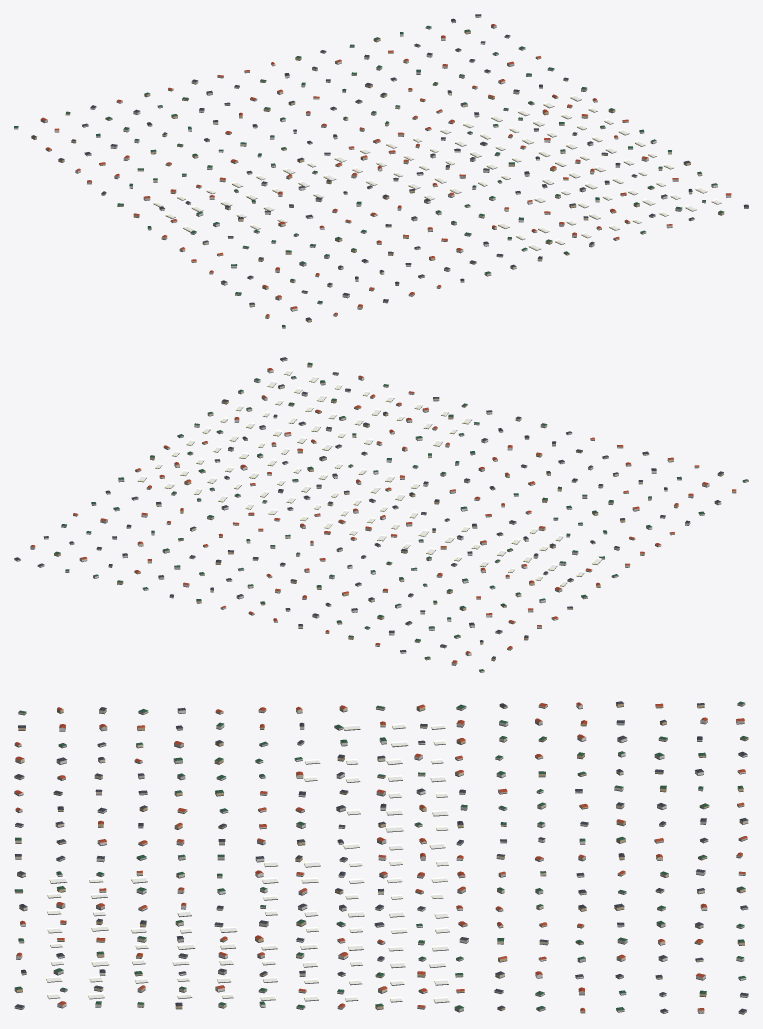
File: buildings_T_W03_S03.glb
3 views of the same model, one above another, from view 1: azimuth 30°, elevation 25°; view 2: azimuth 150°, elevation 25°; view 3: azimuth 270°, elevation 25° (orthographic). The views are drawn at different scales.
Parts seen in each view (by area): view 1: T_W03_S03_slope_seating_foundations, T_W03_S03_roofs_agri_greenhouse_arch, T_W03_S03_roofs_roof_slate_French_villa_hip, T_W03_S03_roofs_roof_terracotta_gable, T_W03_S03_roofs_roof_pine_green_hip, T_W03_S03_walls_wall_modern_warm_white, T_W03_S03_walls_wall_pastel_sand_gray, T_W03_S03_walls_wall_dalat_cream_stucco, T_W03_S03_walls_wall_french_ochre_villa; view 2: T_W03_S03_slope_seating_foundations, T_W03_S03_roofs_agri_greenhouse_arch, T_W03_S03_roofs_roof_slate_French_villa_hip, T_W03_S03_roofs_roof_terracotta_gable, T_W03_S03_roofs_roof_pine_green_hip, T_W03_S03_walls_wall_modern_warm_white, T_W03_S03_walls_wall_dalat_cream_stucco, T_W03_S03_walls_wall_pastel_sand_gray, T_W03_S03_walls_wall_french_ochre_villa; view 3: T_W03_S03_slope_seating_foundations, T_W03_S03_roofs_agri_greenhouse_arch, T_W03_S03_roofs_roof_slate_French_villa_hip, T_W03_S03_roofs_roof_terracotta_gable, T_W03_S03_roofs_roof_pine_green_hip, T_W03_S03_walls_wall_modern_warm_white, T_W03_S03_walls_wall_dalat_cream_stucco, T_W03_S03_walls_wall_pastel_sand_gray, T_W03_S03_walls_wall_french_ochre_villa.
Boxes of the visible parts, x1=… form: T_W03_S03_slope_seating_foundations: x1=14, y1=17, x2=748, y2=328; T_W03_S03_roofs_agri_greenhouse_arch: x1=153, y1=95, x2=721, y2=250; T_W03_S03_roofs_roof_slate_French_villa_hip: x1=31, y1=14, x2=748, y2=320; T_W03_S03_roofs_roof_terracotta_gable: x1=41, y1=24, x2=731, y2=316; T_W03_S03_roofs_roof_pine_green_hip: x1=14, y1=25, x2=724, y2=327; T_W03_S03_walls_wall_modern_warm_white: x1=54, y1=20, x2=731, y2=310; T_W03_S03_walls_wall_pastel_sand_gray: x1=40, y1=25, x2=705, y2=303; T_W03_S03_walls_wall_dalat_cream_stucco: x1=14, y1=16, x2=748, y2=328; T_W03_S03_walls_wall_french_ochre_villa: x1=31, y1=31, x2=724, y2=321; T_W03_S03_slope_seating_foundations: x1=14, y1=359, x2=748, y2=672; T_W03_S03_roofs_agri_greenhouse_arch: x1=137, y1=369, x2=601, y2=585; T_W03_S03_roofs_roof_slate_French_villa_hip: x1=14, y1=357, x2=723, y2=658; T_W03_S03_roofs_roof_terracotta_gable: x1=30, y1=368, x2=736, y2=663; T_W03_S03_roofs_roof_pine_green_hip: x1=54, y1=362, x2=748, y2=671; T_W03_S03_walls_wall_modern_warm_white: x1=37, y1=369, x2=709, y2=655; T_W03_S03_walls_wall_dalat_cream_stucco: x1=14, y1=359, x2=748, y2=672; T_W03_S03_walls_wall_pastel_sand_gray: x1=30, y1=377, x2=693, y2=665; T_W03_S03_walls_wall_french_ochre_villa: x1=54, y1=363, x2=736, y2=660; T_W03_S03_slope_seating_foundations: x1=14, y1=704, x2=748, y2=1014; T_W03_S03_roofs_agri_greenhouse_arch: x1=46, y1=723, x2=449, y2=1002; T_W03_S03_roofs_roof_slate_French_villa_hip: x1=14, y1=701, x2=748, y2=1012; T_W03_S03_roofs_roof_terracotta_gable: x1=14, y1=702, x2=747, y2=1011; T_W03_S03_roofs_roof_pine_green_hip: x1=14, y1=701, x2=748, y2=1010; T_W03_S03_walls_wall_modern_warm_white: x1=14, y1=704, x2=748, y2=1007; T_W03_S03_walls_wall_dalat_cream_stucco: x1=14, y1=703, x2=748, y2=1013; T_W03_S03_walls_wall_pastel_sand_gray: x1=53, y1=719, x2=748, y2=1013; T_W03_S03_walls_wall_french_ochre_villa: x1=14, y1=703, x2=748, y2=1012.
Bounding box in the file's own units: 1689 × 39.48 × 1688.
